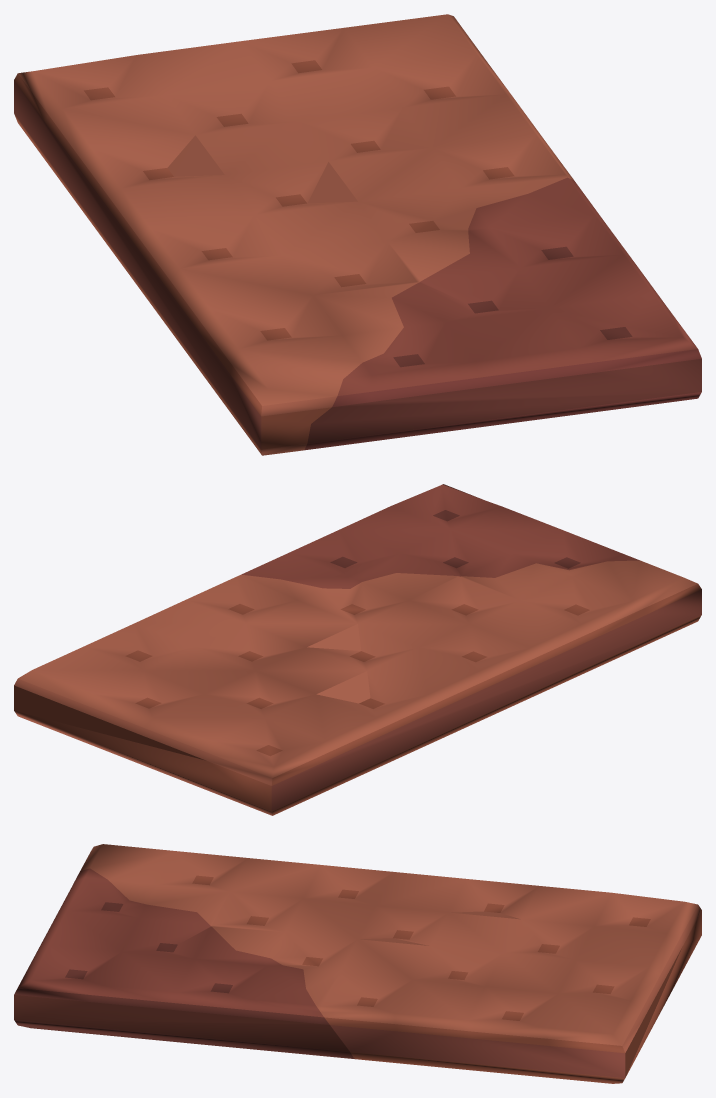
The model's file is apoc_prop_63.glb.
The picture shows the model from 3 angles, top to bottom: view 1: azimuth 30°, elevation 25°; view 2: azimuth 150°, elevation 25°; view 3: azimuth 270°, elevation 25°; orthographic projection. The views are drawn at different scales.
Parts seen in each view (by area): view 1: prop_065; view 2: prop_065; view 3: prop_065.
Part boxes in pixels (x1,y1,x2,y2): prop_065: (14,14,701,455); prop_065: (14,484,701,815); prop_065: (14,844,701,1083).
Bounding box in the file's own units: 0.3329 × 0.0382 × 0.4804.
1 material, 1 textured.
